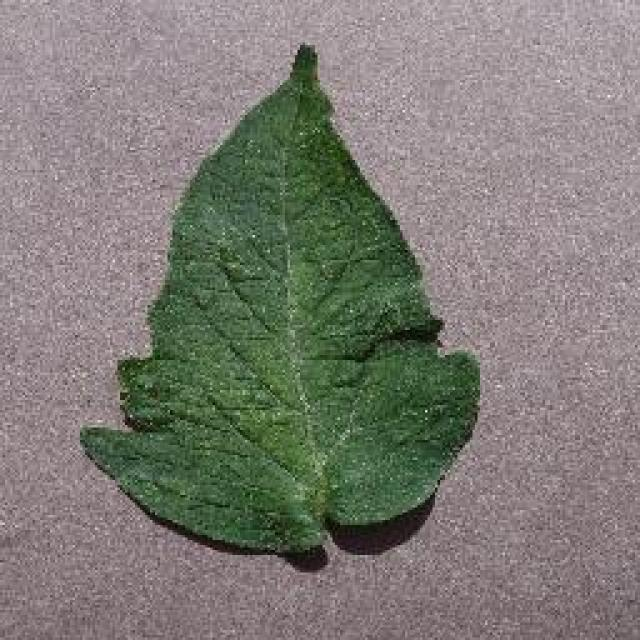Tomato mosaic virus leaf: (79, 45, 479, 555)
